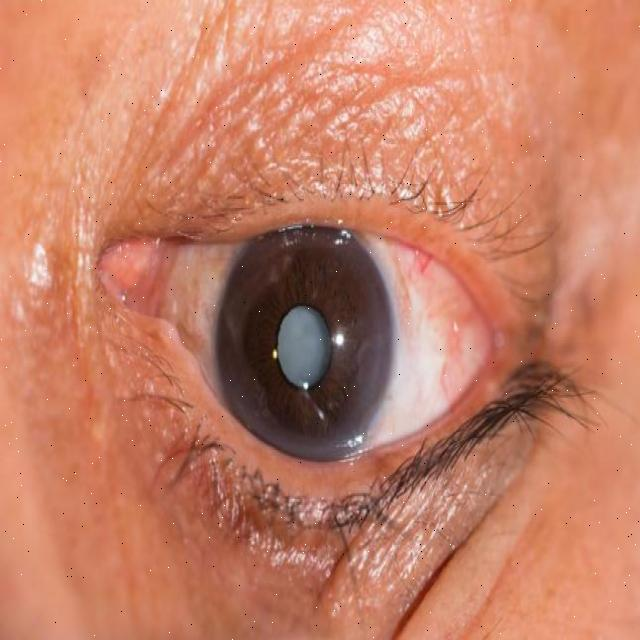Cataract: (213, 207, 398, 480)
